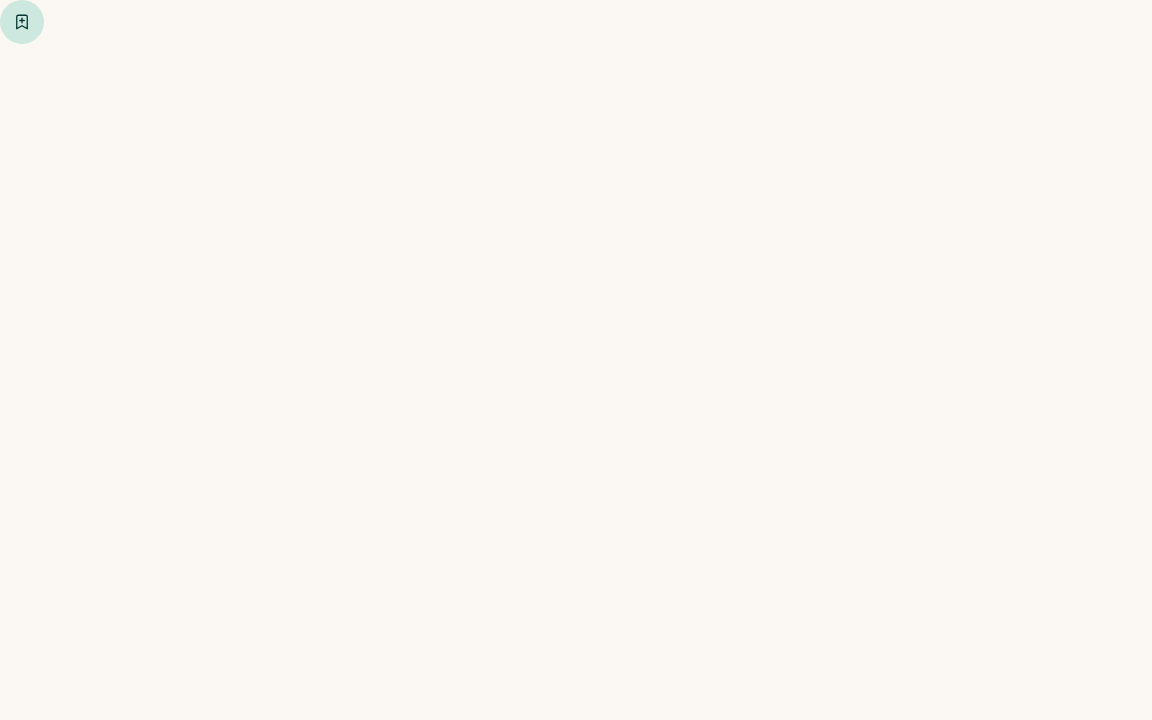
Scenario: shared control keyboard and focus behavior › focuses the preset menu and restores its trigger after Escape
Click the button named "检索预设": (22,22) [0,0,44,44]
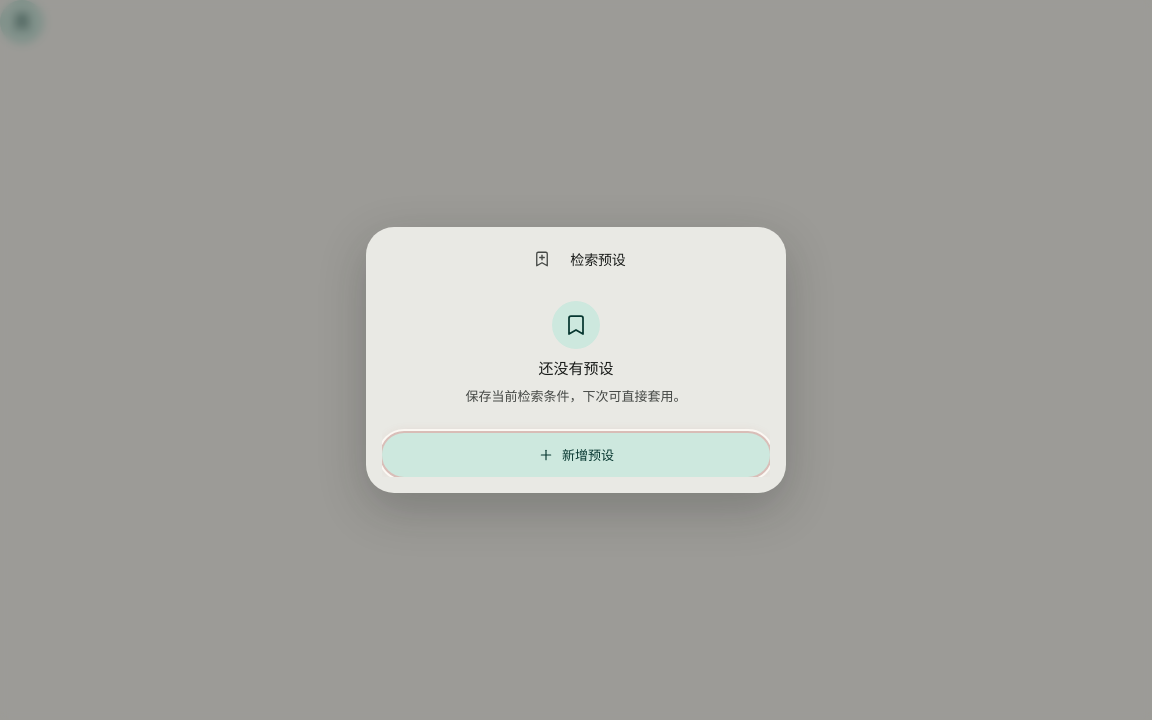
Press Escape
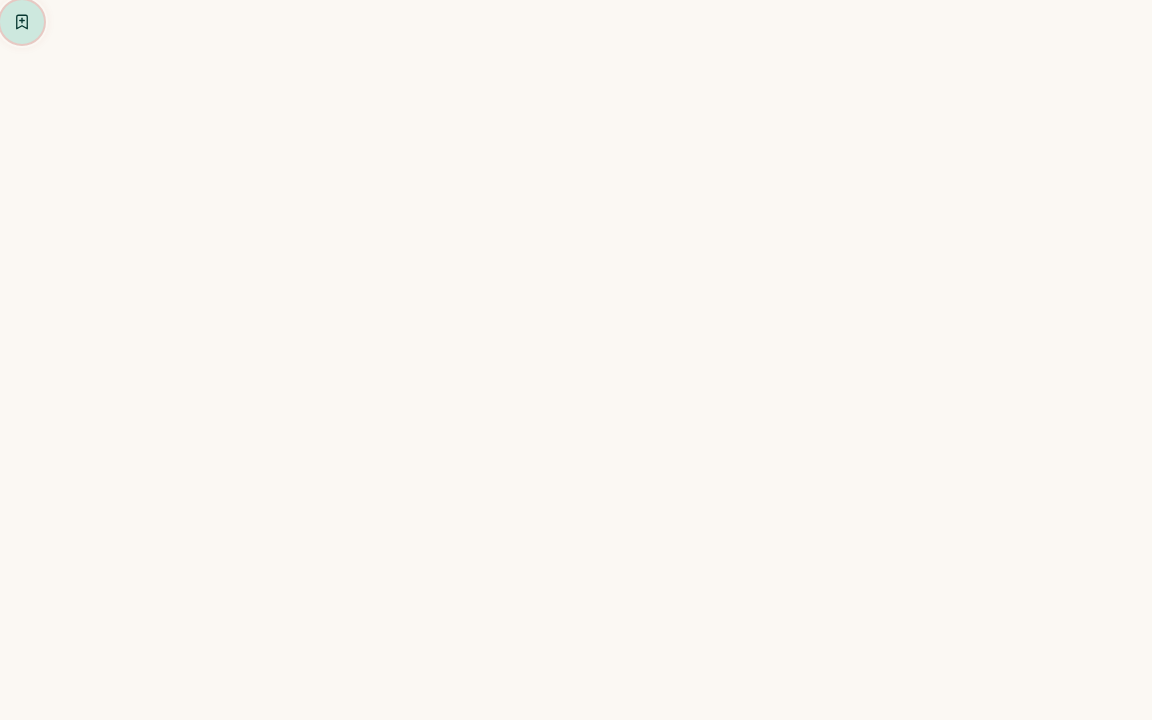
Expected: the menu is gone
